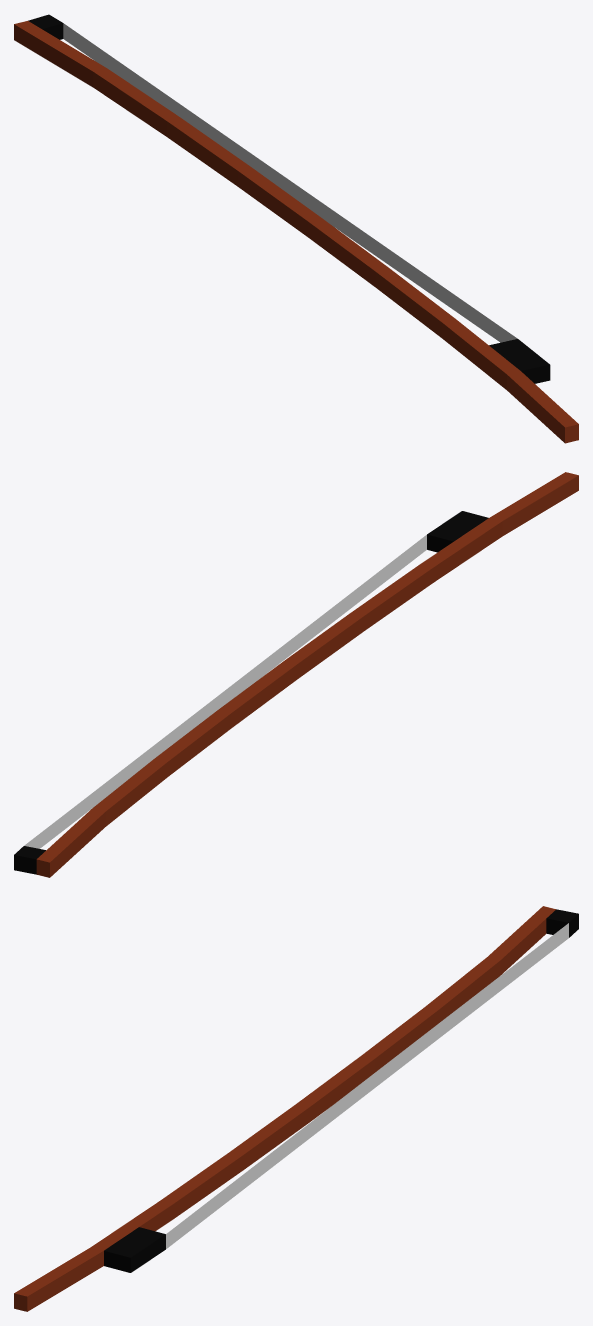
The model's file is ViolinBow.fbx.
3 renders of one model, top to bottom at view 1: azimuth 30°, elevation 25°; view 2: azimuth 150°, elevation 25°; view 3: azimuth 330°, elevation 25°, orthographic. The views are drawn at different scales.
Visible parts, largest first — view 1: Cube; view 2: Cube; view 3: Cube.
Boxes of the visible parts, <box> form: Cube: <box>14,14,578,443</box>; Cube: <box>14,472,578,877</box>; Cube: <box>14,906,578,1311</box>.
Size of the model in its own units: 22.07 by 6.05 by 380.
